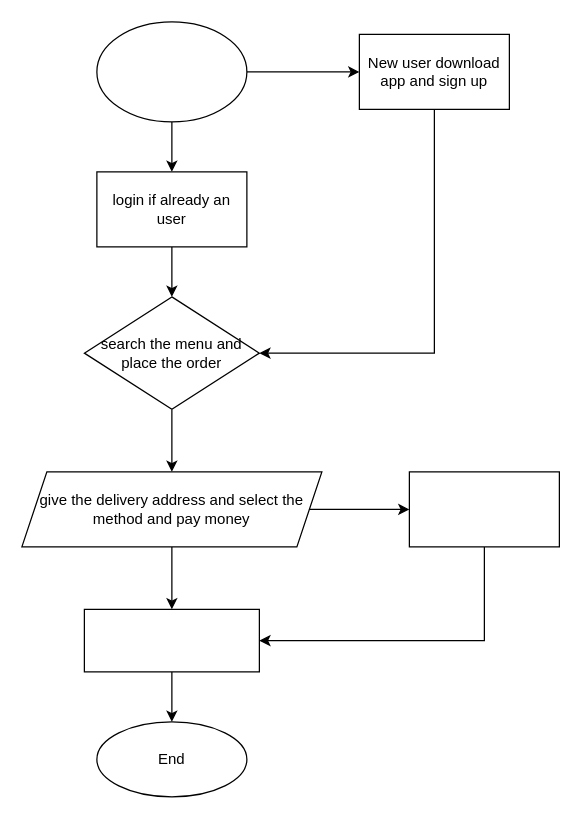
Some shapes in this 581 by 819 pixel diagram are drawn without their labels. The box of each missing label's shape, as (x1, y1, x2, y2) in pixels:
give feedback or rating for you order: (83, 608, 259, 672)
Order placed successfully!!!: (408, 471, 559, 547)
Start: (96, 21, 247, 122)
